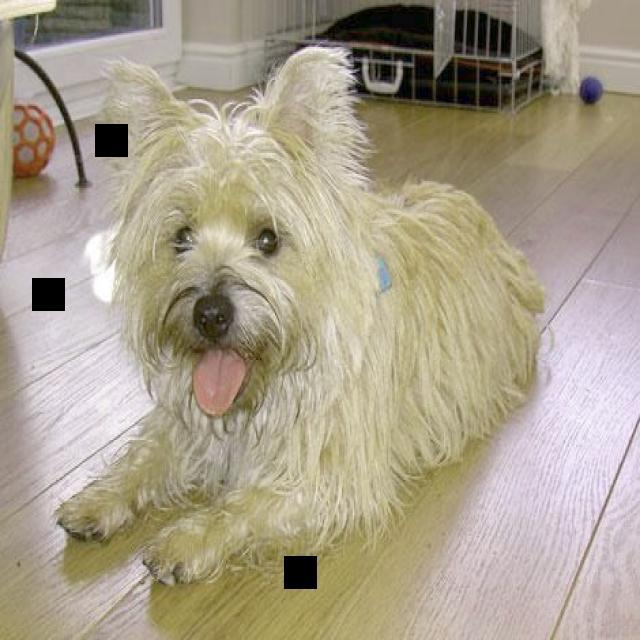adult_dog: (54, 40, 545, 593)
